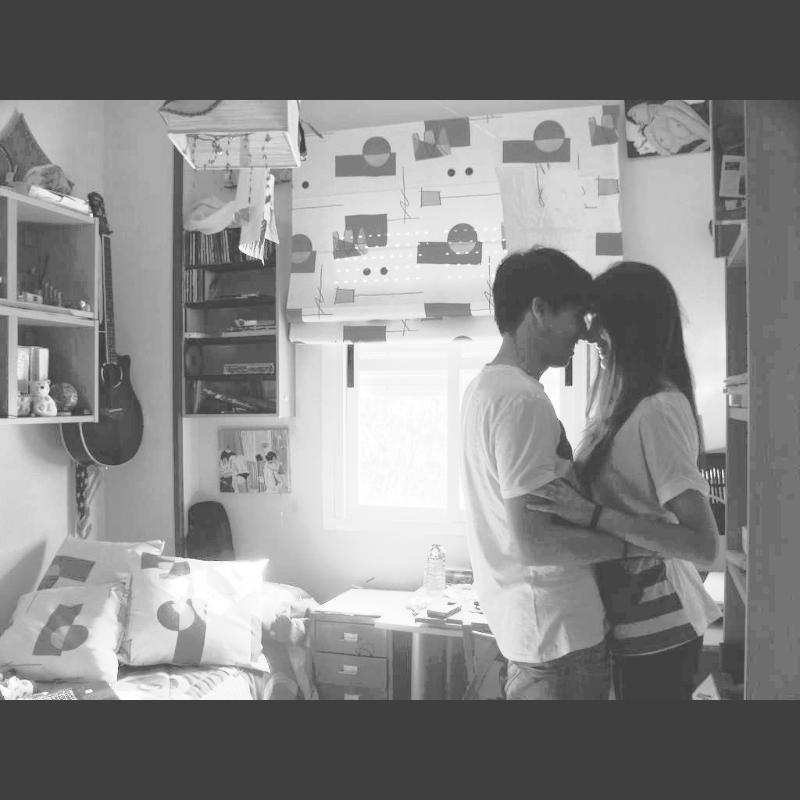pillow: (101, 562, 281, 686), (36, 537, 162, 659), (0, 582, 132, 684)
